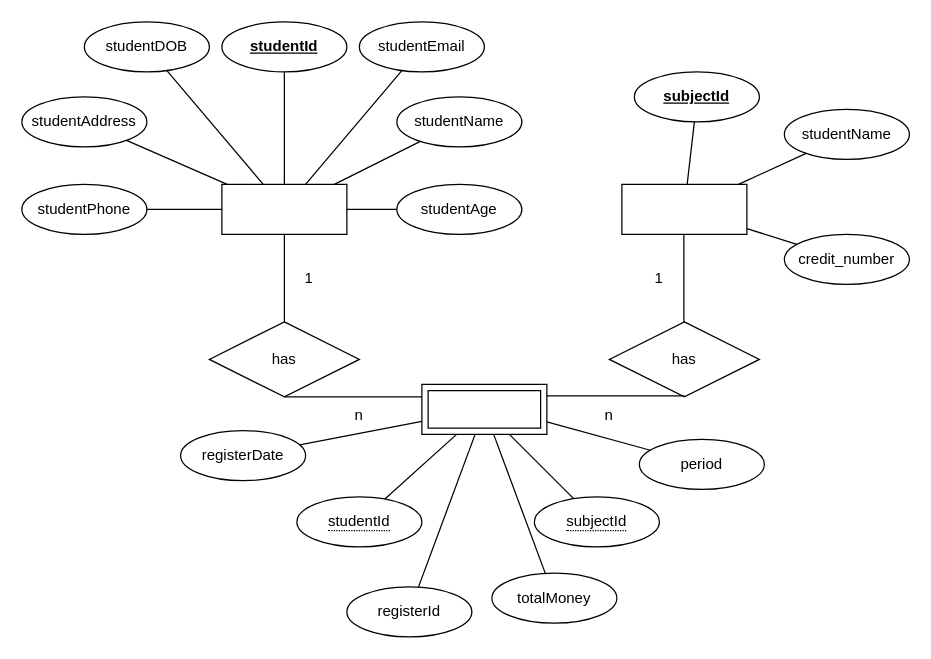
Some shapes in this 931 by 659 pixel diagram are drawn without their labels. Here are the shapes that lost their labels. From the top down, the centre of each, then its label:
At point 284,208: "Student".
At point 684,208: "Subject".
At point 484,408: "Subject Register".
